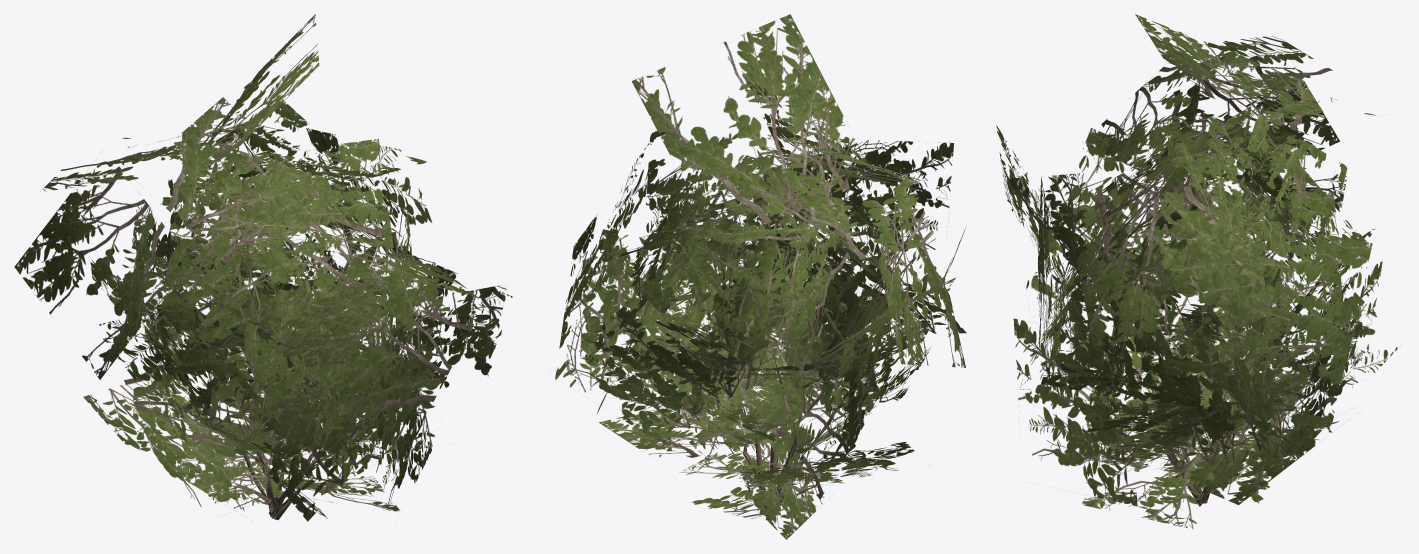
Rendered from shrub_b.glb.
The picture shows the model from 3 angles, left to right: view 1: azimuth 30°, elevation 25°; view 2: azimuth 150°, elevation 25°; view 3: azimuth 270°, elevation 25°; orthographic projection. The views are drawn at different scales.
Parts seen in each view (by area): view 1: cards, trunk; view 2: cards, trunk; view 3: cards, trunk.
Boxes of the visible parts, left/top/right/bottom form: cards: left=14, top=14, right=512, bottom=521; trunk: left=170, top=164, right=341, bottom=520; cards: left=555, top=14, right=966, bottom=539; trunk: left=685, top=202, right=848, bottom=520; cards: left=996, top=14, right=1397, bottom=528; trunk: left=1086, top=116, right=1280, bottom=506.
Bounding box in the file's own units: 1.5 × 1.67 × 1.24.
Materials: 2 (2 with a texture image).
